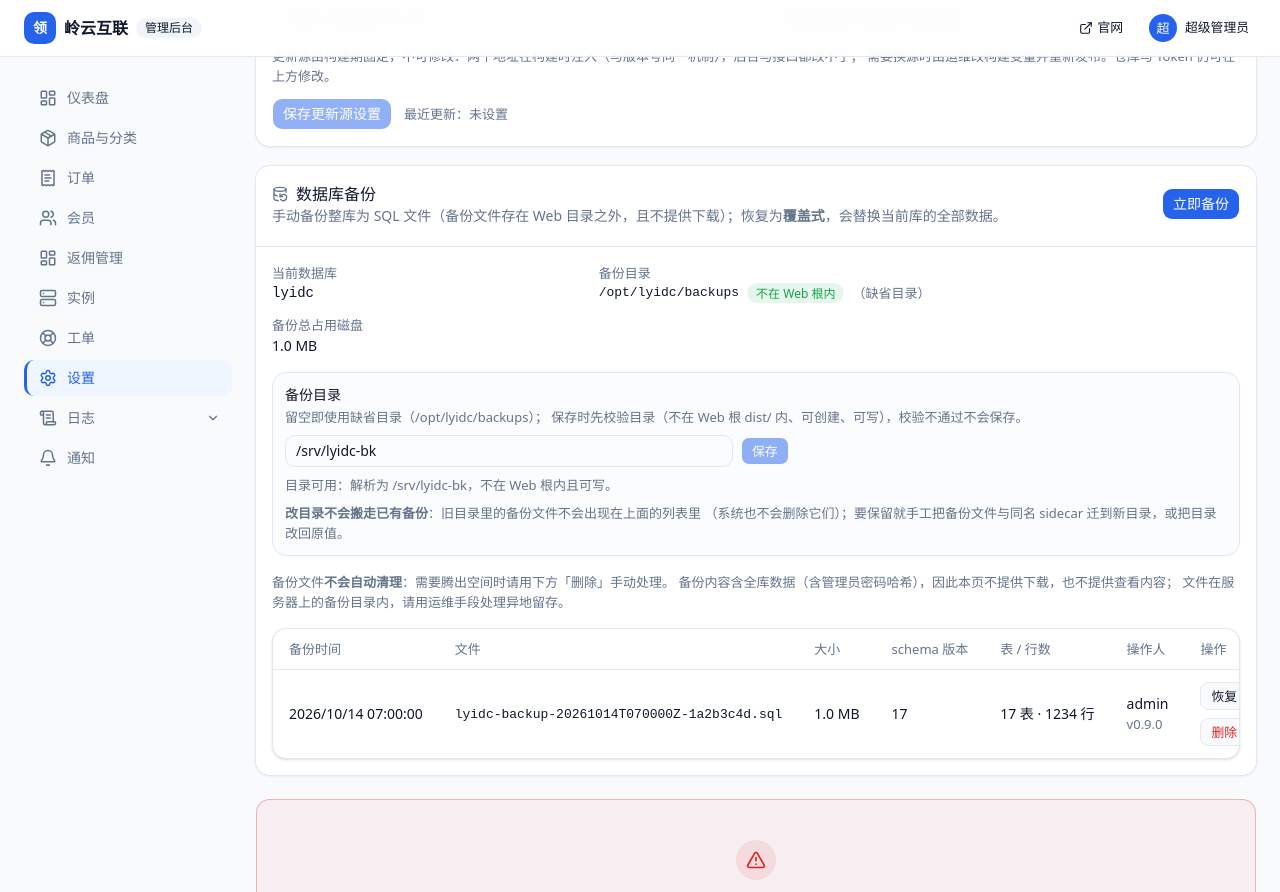
Test: 管理后台 · 数据库备份（R14，契约 21） › 留空保存：dir 为空串 = 恢复缺省目录
This screenshot has width=1280, height=892.
(page scrolled)
Check: the element with test id "db-backups-panel" is shown, box [256, 166, 1256, 775]
Clear the field named "备份目录" at (509, 451), box [285, 435, 733, 467]
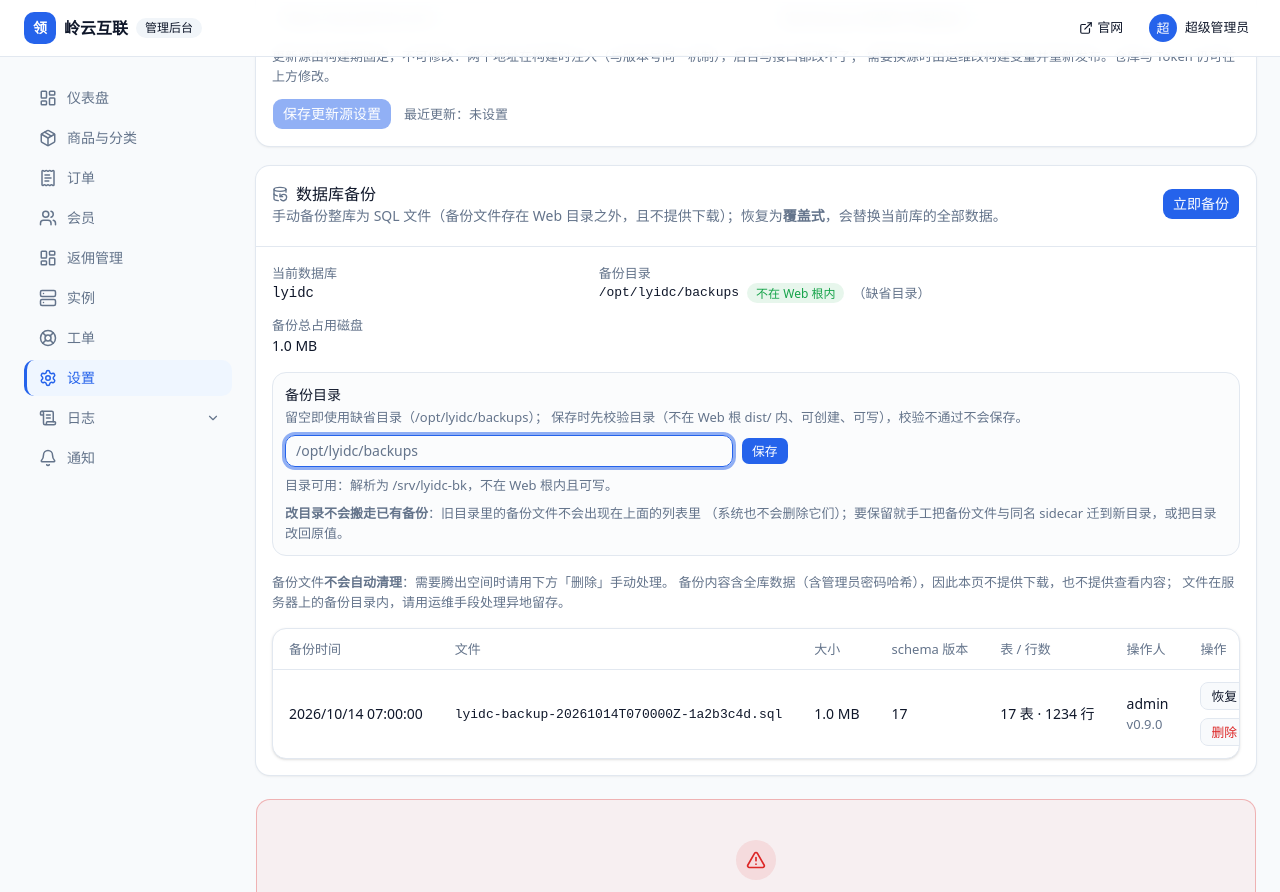
Click the button with test id "db-backup-dir-save".
click(765, 451)  # box [741, 437, 789, 465]
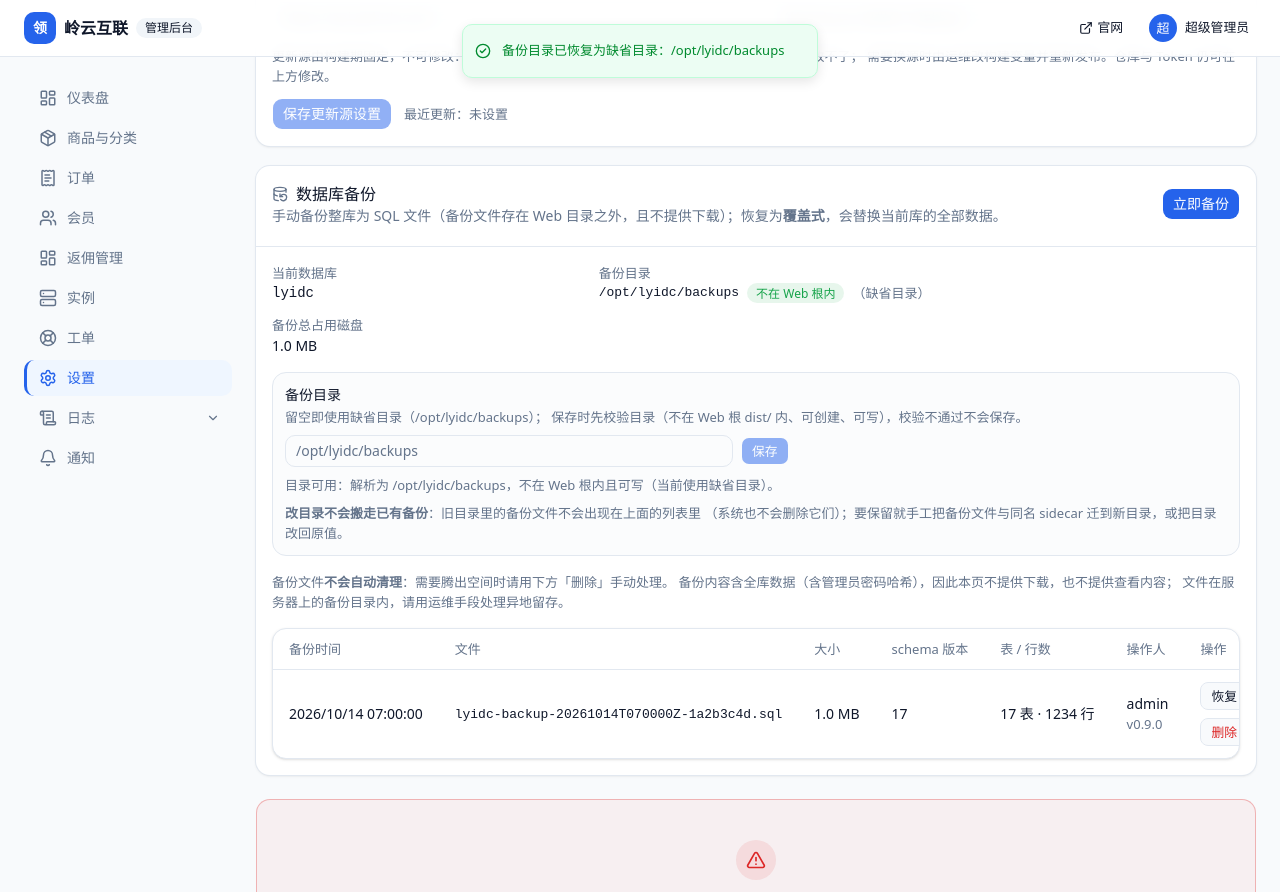
Check: the text "备份目录已恢复为缺省目录：/opt/lyidc/backups" is shown, box [502, 41, 784, 60]
